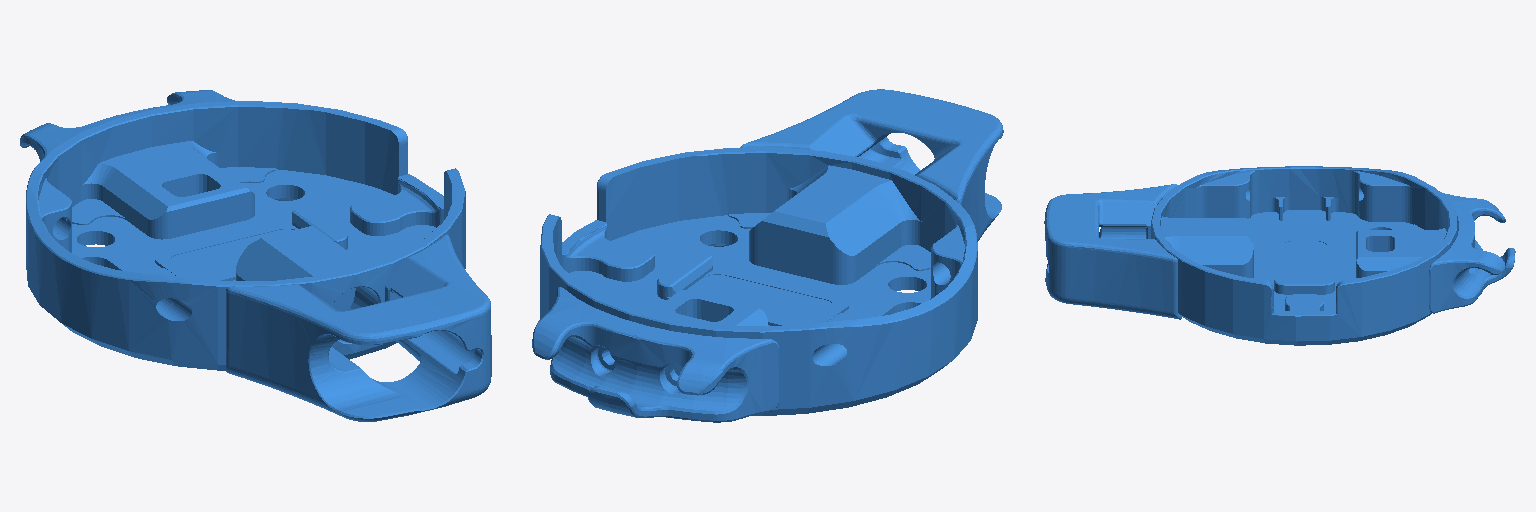
The robot description file, URDF, robot "onrobot_quick_changer_model":
<?xml version="1.0"?>
<robot name="onrobot_quick_changer_model">
    <link name="onrobot_quick_changer_base_link">
        <inertial>
            <origin rpy="0 0 0" xyz="0.0 0.0 0.0" />
            <mass value="0.06"/>
            <inertia ixx="1.0E-03" ixy="1.0E-06" ixz="1.0E-06" iyy="1.0E-03" iyz="1.0E-06"
                izz="1.0E-03" />
        </inertial>
        <visual>
            <origin rpy="0 0 0" xyz="0 0 0" />
            <geometry>
                <mesh filename="package://par_pkg/meshes/visual/quick_changer.stl" />
            </geometry>
            <material name="">
                <color rgba="0.3 0.6 0.9 1" />
            </material>
        </visual>
        <collision>
            <origin rpy="0 0 0" xyz="0 0 0" />
            <geometry>
                <mesh filename="package://par_pkg/meshes/collision/quick_changer.stl" />
            </geometry>
        </collision>
    </link>
    <link name="onrobot_quick_changer_tool_link"/>
    <joint name="onrobot_quick_changer_joint" type="fixed">
        <origin rpy="0 0 0" xyz="0 0 0.0021"/>
        <parent link="onrobot_quick_changer_base_link"/>
        <child link="onrobot_quick_changer_tool_link"/>
        <axis xyz="0 0 0"/>
    </joint>
</robot>

--- Render facts (derived) ---
The picture shows the robot from 3 angles, left to right: view 1: azimuth 30°, elevation 25°; view 2: azimuth 150°, elevation 25°; view 3: azimuth 270°, elevation 25°; orthographic projection.
Robot: onrobot_quick_changer_model — 2 links, 1 joints (1 fixed); root link onrobot_quick_changer_base_link; default pose: all joints at 0.
Links seen in each view (by area): view 1: onrobot_quick_changer_base_link; view 2: onrobot_quick_changer_base_link; view 3: onrobot_quick_changer_base_link.
Link boxes in pixels (x1,y1,x2,y2): onrobot_quick_changer_base_link: (20, 90, 491, 421); onrobot_quick_changer_base_link: (532, 89, 1003, 422); onrobot_quick_changer_base_link: (1044, 166, 1515, 345).
Bounding box of the posed robot: 0.0709 × 0.1088 × 0.017 m (x, y, z).
1 mesh visuals loaded from 1 distinct referenced files (1 binary STL).